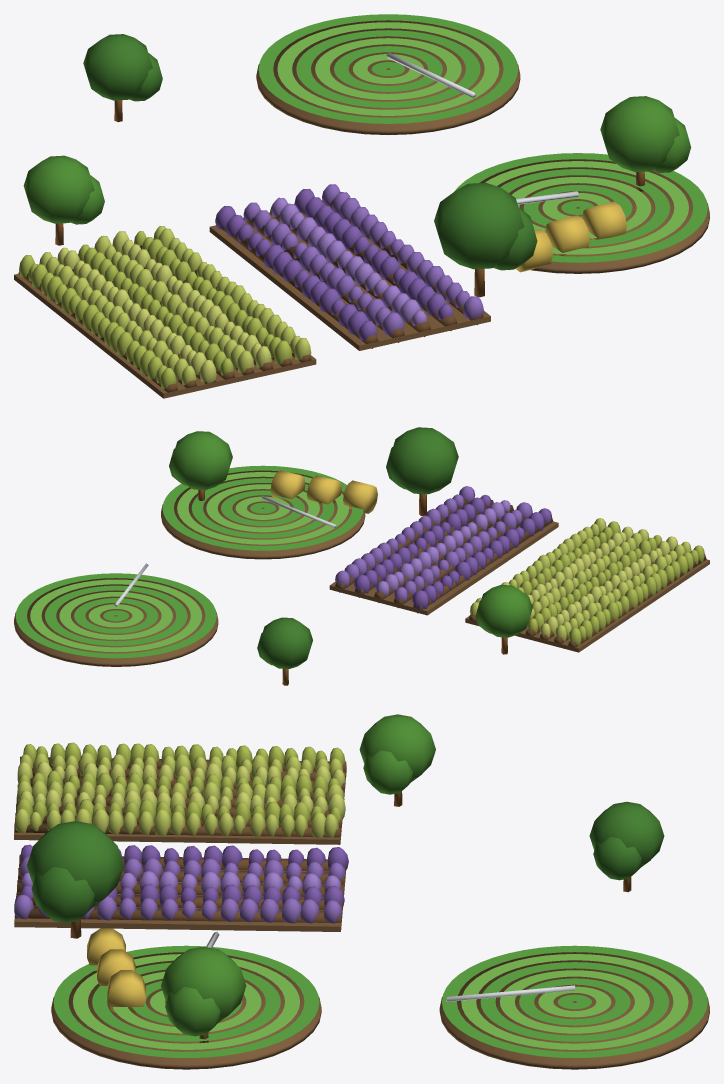
File: improvement_farm_3_0.fbx
3 views of the same model, one above another, from view 1: azimuth 30°, elevation 25°; view 2: azimuth 150°, elevation 25°; view 3: azimuth 270°, elevation 25° (orthographic). The views are drawn at different scales.
Visible parts, largest first — view 1: improvement_farm_3_0_tilled.006_00, improvement_farm_3_0_pivot#5aa83e_09, improvement_farm_3_0_pivot#7cc050_10, improvement_farm_3_0_leaf#3f7a2c.004_14, improvement_farm_3_0_crop#a8b84c.006_03, improvement_farm_3_0_leaf#4a8a30.006_13, improvement_farm_3_0_crop#b8c45a.006_02, improvement_farm_3_0_crop#7a5aa8.002_07, improvement_farm_3_0_crop#8a6ab8.002_06, improvement_farm_3_0_crop#c4cc66.005_04, improvement_farm_3_0_crop#9a7ac8.001_08, improvement_farm_3_0_hayroll.002_15 (+4 smaller); view 2: improvement_farm_3_0_tilled.006_00, improvement_farm_3_0_pivot#5aa83e_09, improvement_farm_3_0_pivot#7cc050_10, improvement_farm_3_0_leaf#3f7a2c.004_14, improvement_farm_3_0_crop#a8b84c.006_03, improvement_farm_3_0_leaf#4a8a30.006_13, improvement_farm_3_0_crop#b8c45a.006_02, improvement_farm_3_0_crop#7a5aa8.002_07, improvement_farm_3_0_crop#8a6ab8.002_06, improvement_farm_3_0_crop#c4cc66.005_04, improvement_farm_3_0_hayroll.002_15, improvement_farm_3_0_crop#9a7ac8.001_08 (+4 smaller); view 3: improvement_farm_3_0_tilled.006_00, improvement_farm_3_0_pivot#5aa83e_09, improvement_farm_3_0_pivot#7cc050_10, improvement_farm_3_0_crop#b8c45a.006_02, improvement_farm_3_0_leaf#3f7a2c.004_14, improvement_farm_3_0_leaf#4a8a30.006_13, improvement_farm_3_0_crop#a8b84c.006_03, improvement_farm_3_0_crop#8a6ab8.002_06, improvement_farm_3_0_crop#c4cc66.005_04, improvement_farm_3_0_crop#7a5aa8.002_07, improvement_farm_3_0_ridgelavender.002_05, improvement_farm_3_0_ridgebarley.006_01 (+3 smaller).
Boxes of the visible parts, <box> form: improvement_farm_3_0_tilled.006_00: <box>14,20,709,398</box>; improvement_farm_3_0_pivot#5aa83e_09: <box>258,14,707,262</box>; improvement_farm_3_0_pivot#7cc050_10: <box>277,22,688,254</box>; improvement_farm_3_0_leaf#3f7a2c.004_14: <box>83,34,537,270</box>; improvement_farm_3_0_crop#a8b84c.006_03: <box>19,231,292,389</box>; improvement_farm_3_0_leaf#4a8a30.006_13: <box>23,96,691,224</box>; improvement_farm_3_0_crop#b8c45a.006_02: <box>39,226,311,385</box>; improvement_farm_3_0_crop#7a5aa8.002_07: <box>215,189,453,340</box>; improvement_farm_3_0_crop#8a6ab8.002_06: <box>243,184,483,335</box>; improvement_farm_3_0_crop#c4cc66.005_04: <box>57,231,271,383</box>; improvement_farm_3_0_crop#9a7ac8.001_08: <box>271,197,427,325</box>; improvement_farm_3_0_hayroll.002_15: <box>515,201,626,272</box>; improvement_farm_3_0_tilled.006_00: <box>14,470,709,666</box>; improvement_farm_3_0_pivot#5aa83e_09: <box>15,465,363,658</box>; improvement_farm_3_0_pivot#7cc050_10: <box>30,472,348,652</box>; improvement_farm_3_0_leaf#3f7a2c.004_14: <box>257,427,458,668</box>; improvement_farm_3_0_crop#a8b84c.006_03: <box>517,521,704,645</box>; improvement_farm_3_0_leaf#4a8a30.006_13: <box>169,431,532,637</box>; improvement_farm_3_0_crop#b8c45a.006_02: <box>470,518,691,641</box>; improvement_farm_3_0_crop#7a5aa8.002_07: <box>353,495,551,609</box>; improvement_farm_3_0_crop#8a6ab8.002_06: <box>335,486,532,602</box>; improvement_farm_3_0_crop#c4cc66.005_04: <box>527,526,677,637</box>; improvement_farm_3_0_hayroll.002_15: <box>270,470,377,513</box>; improvement_farm_3_0_crop#9a7ac8.001_08: <box>375,500,510,596</box>; improvement_farm_3_0_tilled.006_00: <box>14,765,709,1069</box>; improvement_farm_3_0_pivot#5aa83e_09: <box>53,945,707,1058</box>; improvement_farm_3_0_pivot#7cc050_10: <box>73,954,688,1049</box>; improvement_farm_3_0_crop#b8c45a.006_02: <box>15,752,344,837</box>; improvement_farm_3_0_leaf#3f7a2c.004_14: <box>26,801,664,923</box>; improvement_farm_3_0_leaf#4a8a30.006_13: <box>161,714,435,1036</box>; improvement_farm_3_0_crop#a8b84c.006_03: <box>16,742,345,825</box>; improvement_farm_3_0_crop#8a6ab8.002_06: <box>14,856,345,923</box>; improvement_farm_3_0_crop#c4cc66.005_04: <box>17,761,345,819</box>; improvement_farm_3_0_crop#7a5aa8.002_07: <box>20,844,348,907</box>; improvement_farm_3_0_ridgelavender.002_05: <box>15,854,345,923</box>; improvement_farm_3_0_ridgebarley.006_01: <box>14,756,346,837</box>.
Size of the model in its own units: 186 by 32.37 by 179.
